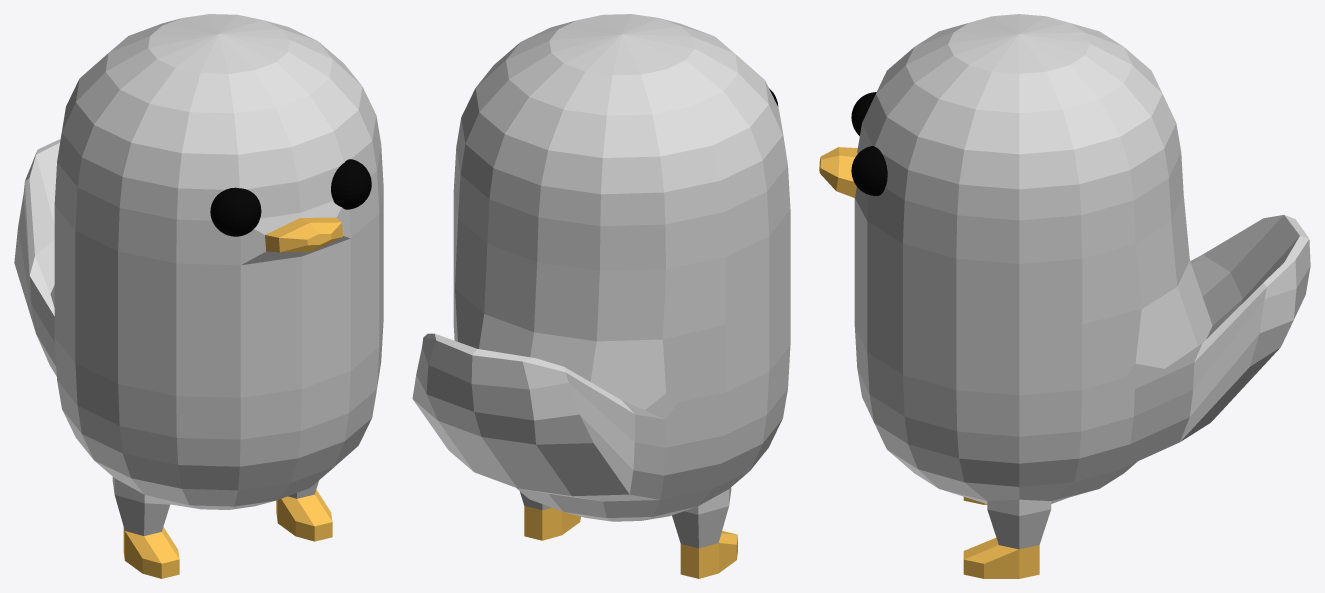
The model's file is duck.fbx.
3 renders of one model, left to right at view 1: azimuth 30°, elevation 25°; view 2: azimuth 150°, elevation 25°; view 3: azimuth 270°, elevation 25°, orthographic. The views are drawn at different scales.
Parts seen in each view (by area): view 1: Cylinder; view 2: Cylinder; view 3: Cylinder.
Part boxes in pixels (bbox=[...]): Cylinder: bbox=[14, 14, 383, 578]; Cylinder: bbox=[412, 14, 790, 578]; Cylinder: bbox=[819, 14, 1310, 578].
Bounding box in the file's own units: 200 × 335 × 299.
